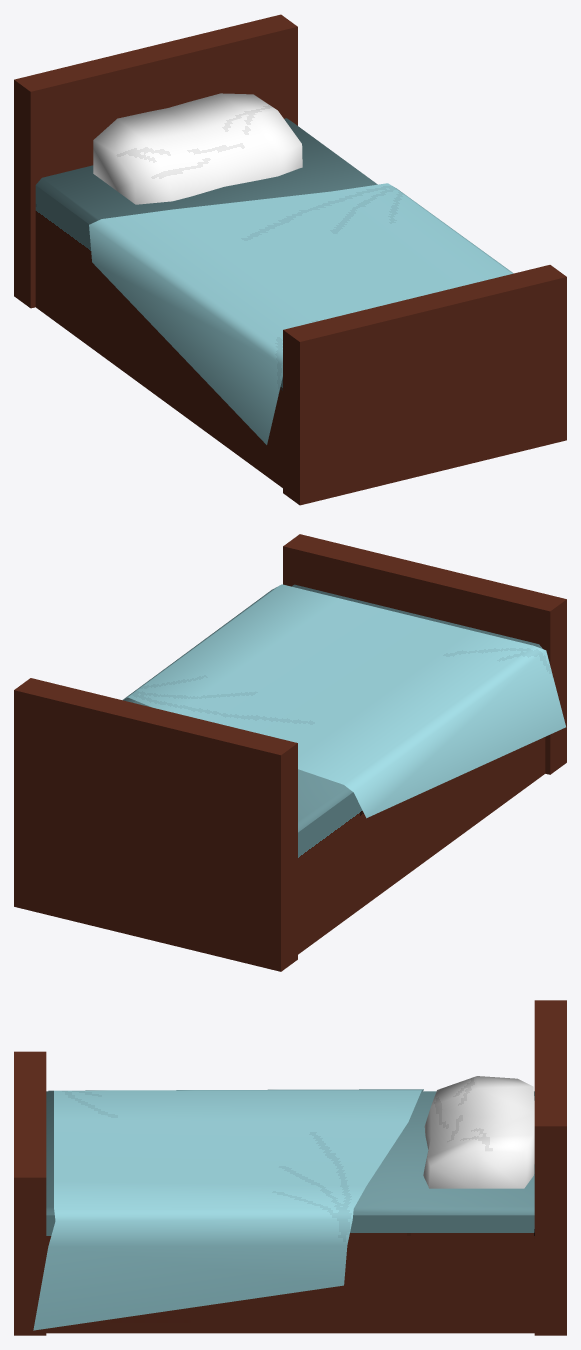
File: bed-1.glb
The picture shows the model from 3 angles, top to bottom: view 1: azimuth 30°, elevation 25°; view 2: azimuth 150°, elevation 25°; view 3: azimuth 270°, elevation 25°; orthographic projection. The views are drawn at different scales.
Visible parts, largest first — view 1: bed; view 2: bed; view 3: bed.
Part boxes in pixels (<box>): bed: <box>14,14,566,505</box>; bed: <box>14,534,566,971</box>; bed: <box>14,1000,566,1335</box>.
Bounding box in the file's own units: 3.81 × 2.65 × 6.34.
1 material, 1 textured.
